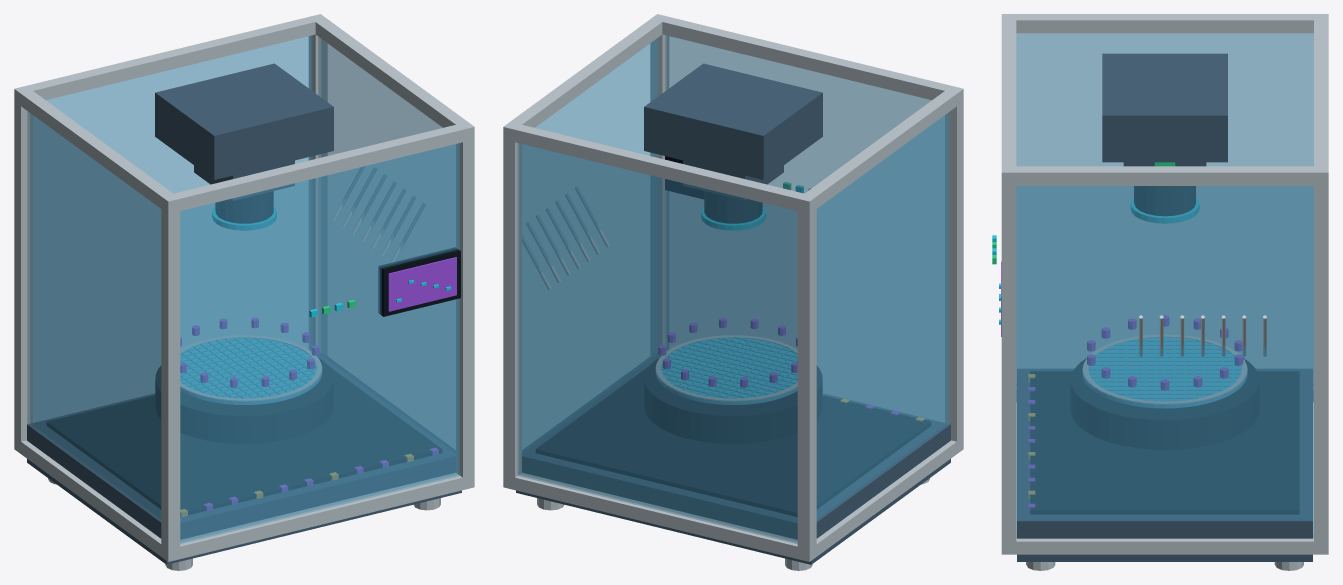
File: 33_L79_DarkfieldParticleInspectionSystem.fbx
The picture shows the model from 3 angles, left to right: view 1: azimuth 30°, elevation 25°; view 2: azimuth 150°, elevation 25°; view 3: azimuth 270°, elevation 25°; orthographic projection. The views are drawn at different scales.
Visible parts, largest first — view 1: DarkfieldParticleInspectionSystem, DarkfieldParticleInspectionSystem_Part_0096, DarkfieldParticleInspectionSystem_Part_0095; view 2: DarkfieldParticleInspectionSystem, DarkfieldParticleInspectionSystem_Part_0096, DarkfieldParticleInspectionSystem_Part_0095; view 3: DarkfieldParticleInspectionSystem, DarkfieldParticleInspectionSystem_Part_0096, DarkfieldParticleInspectionSystem_Part_0097.
Part boxes in pixels (box(x1,y1,x2,y2)): DarkfieldParticleInspectionSystem: box(14, 14, 474, 570); DarkfieldParticleInspectionSystem_Part_0096: box(215, 191, 273, 223); DarkfieldParticleInspectionSystem_Part_0095: box(194, 160, 294, 200); DarkfieldParticleInspectionSystem: box(503, 14, 963, 570); DarkfieldParticleInspectionSystem_Part_0096: box(704, 191, 762, 223); DarkfieldParticleInspectionSystem_Part_0095: box(683, 160, 783, 200); DarkfieldParticleInspectionSystem: box(992, 14, 1328, 570); DarkfieldParticleInspectionSystem_Part_0096: box(1134, 186, 1195, 215); DarkfieldParticleInspectionSystem_Part_0097: box(1131, 198, 1199, 223).
Size of the model in its own units: 230 by 267 by 195.
